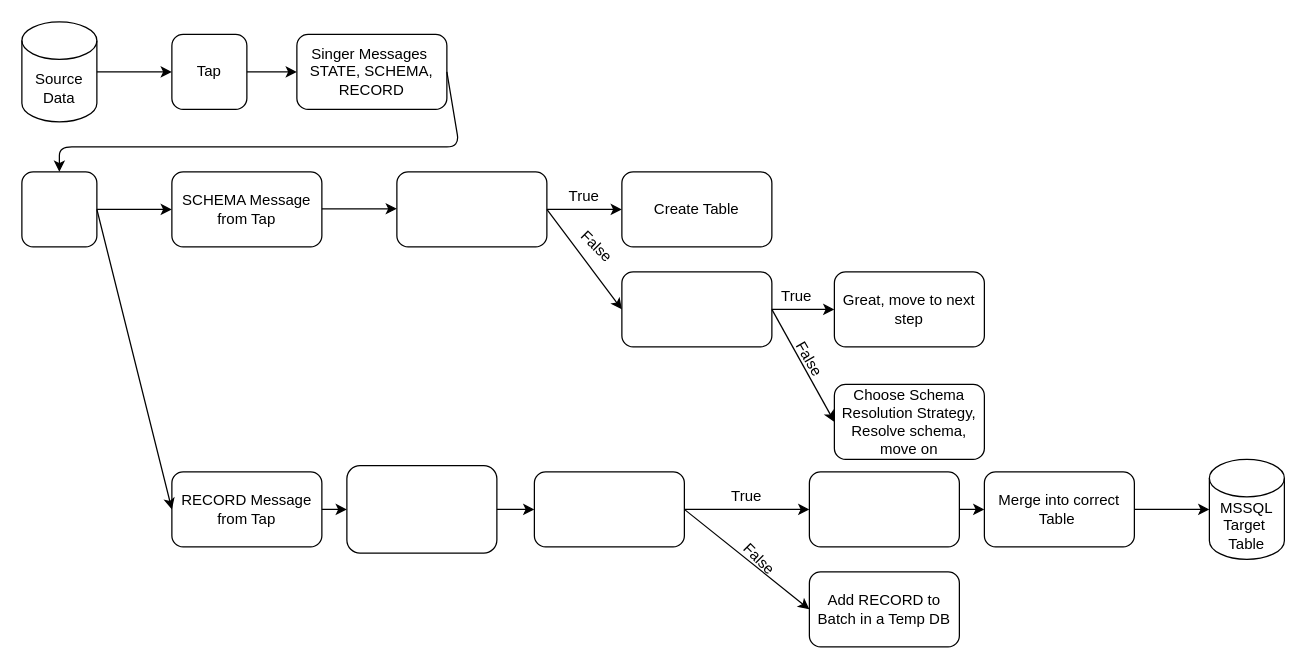
Image size: 1306x669. Some labels were removed from this diagram. The shapes that lost their labels are listed below. From the top down, each one's centre as x and y in pixels, then its label:
the point at 59,209: MSSQL-Target
the point at 471,209: Does Target Table Exist?
the point at 696,309: Does Table Match Schema expected?
the point at 421,508: Current Batch Exist for Stream? Schema Message already? If not fail
the point at 608,509: Batch size over batch size limit?
the point at 883,509: Add record, Commit Batch
